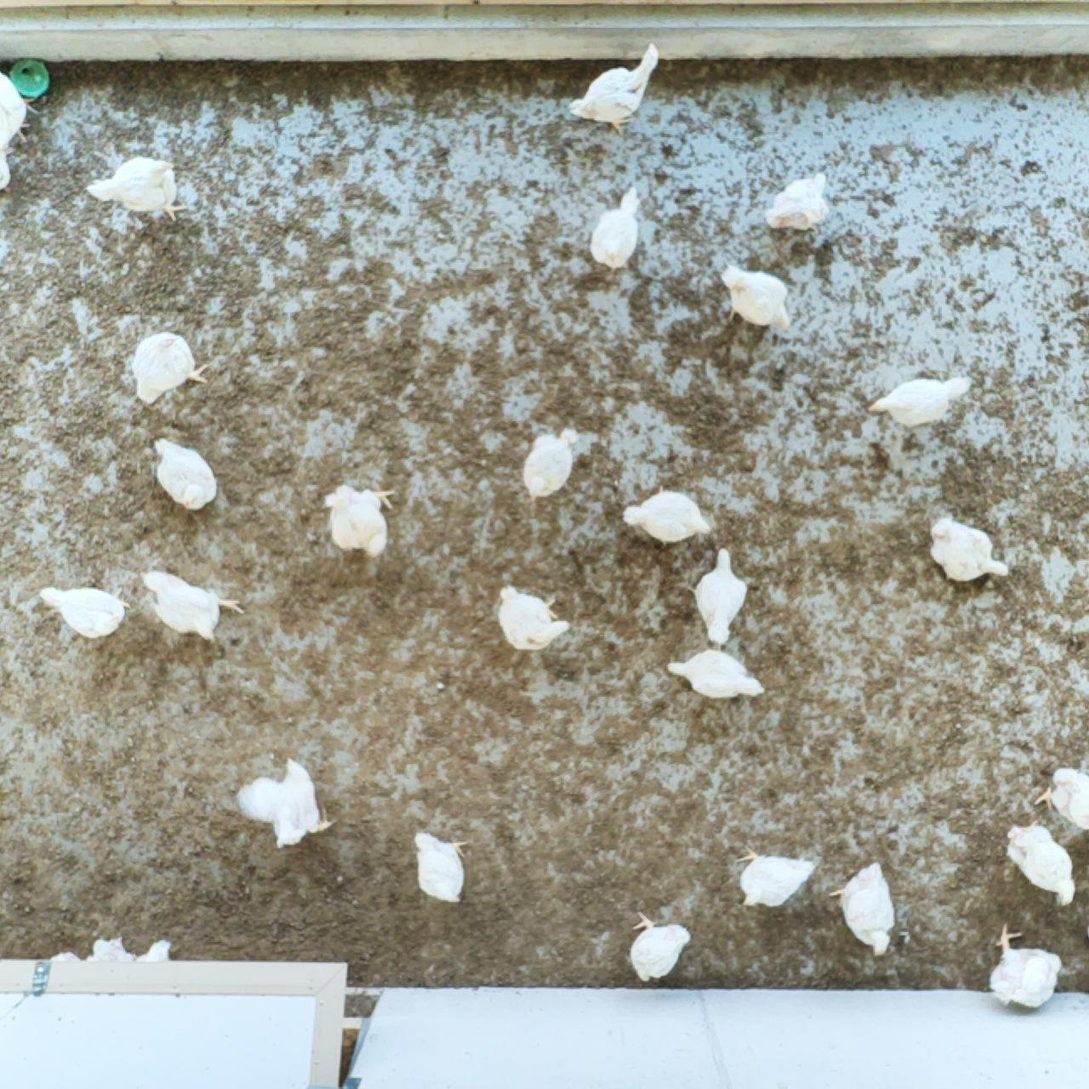chicken: (235, 752, 341, 854), (567, 37, 664, 139), (137, 566, 246, 652), (825, 861, 908, 966), (89, 154, 195, 228), (1002, 817, 1080, 913), (986, 920, 1066, 1013), (685, 546, 754, 650), (323, 474, 402, 563), (128, 329, 212, 412), (869, 370, 975, 435), (926, 512, 1015, 589), (728, 839, 821, 911), (717, 258, 797, 339), (145, 433, 222, 516), (35, 579, 133, 644), (619, 482, 713, 549), (663, 646, 768, 705), (495, 580, 574, 657), (587, 184, 648, 278), (762, 168, 841, 240), (0, 66, 43, 198), (624, 906, 695, 985), (519, 423, 587, 505), (409, 827, 475, 909), (1032, 761, 1089, 831)
